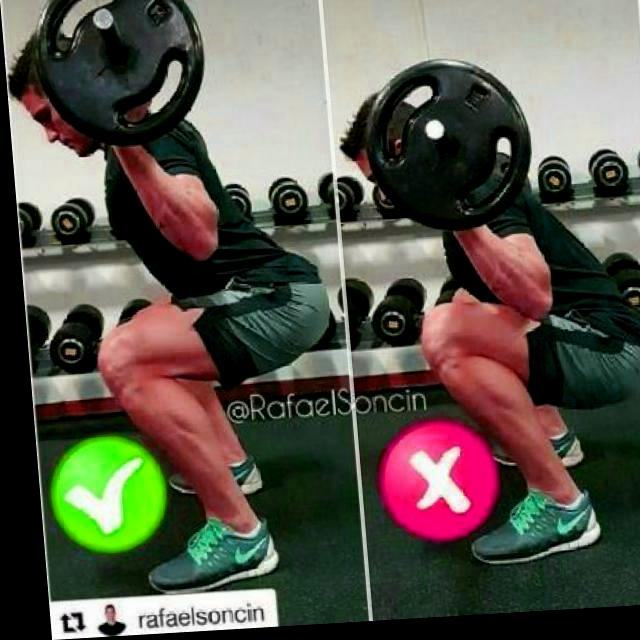barbell: (357, 55, 537, 246), (27, 1, 213, 156)
